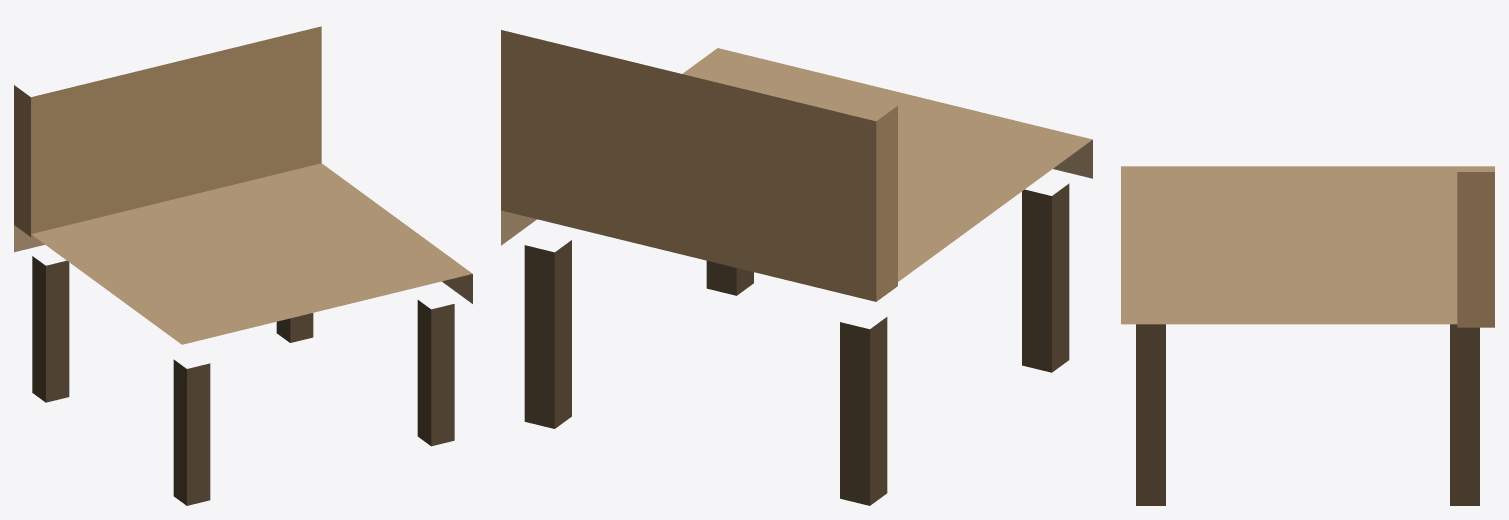
The model's file is Chair-multicolor.glb.
The picture shows the model from 3 angles, left to right: view 1: azimuth 30°, elevation 25°; view 2: azimuth 150°, elevation 25°; view 3: azimuth 270°, elevation 25°; orthographic projection. The views are drawn at different scales.
Parts seen in each view (by area): view 1: Chair; view 2: Chair; view 3: Chair.
Part boxes in pixels (x1,y1,x2,y2): Chair: (14, 26, 472, 505); Chair: (501, 30, 1092, 505); Chair: (1121, 166, 1494, 505).
Size of the model in its own units: 1 by 1 by 1.
